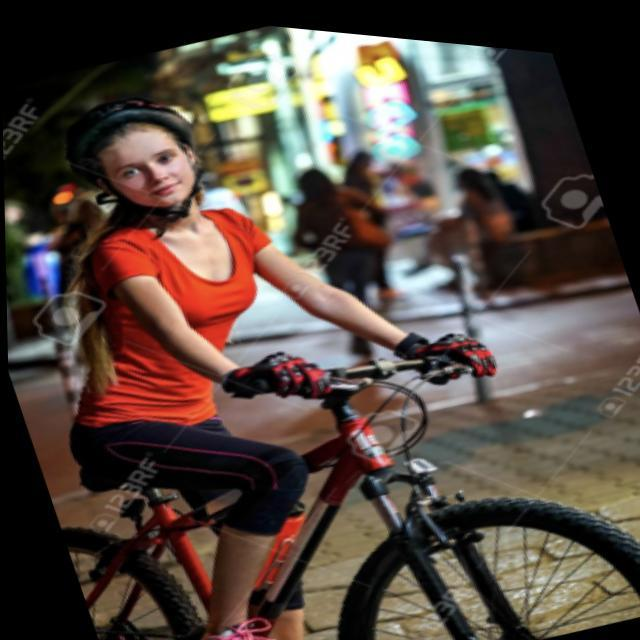Helmet: (59, 85, 205, 225)
